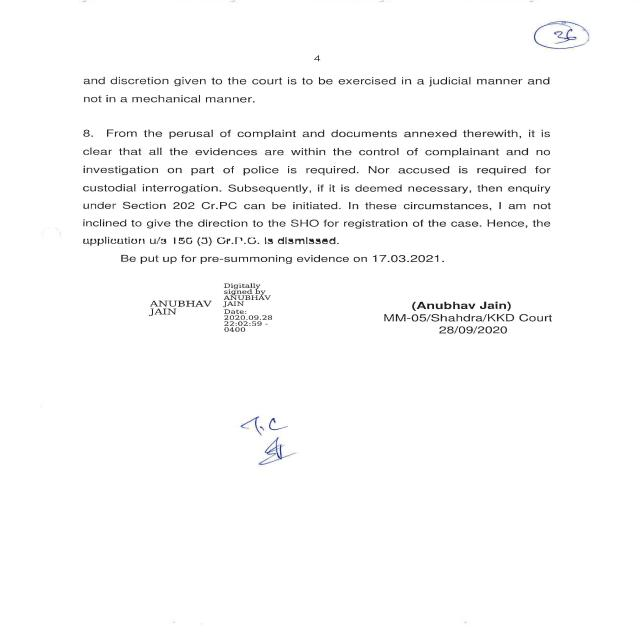page-number: (473, 3, 640, 72)
